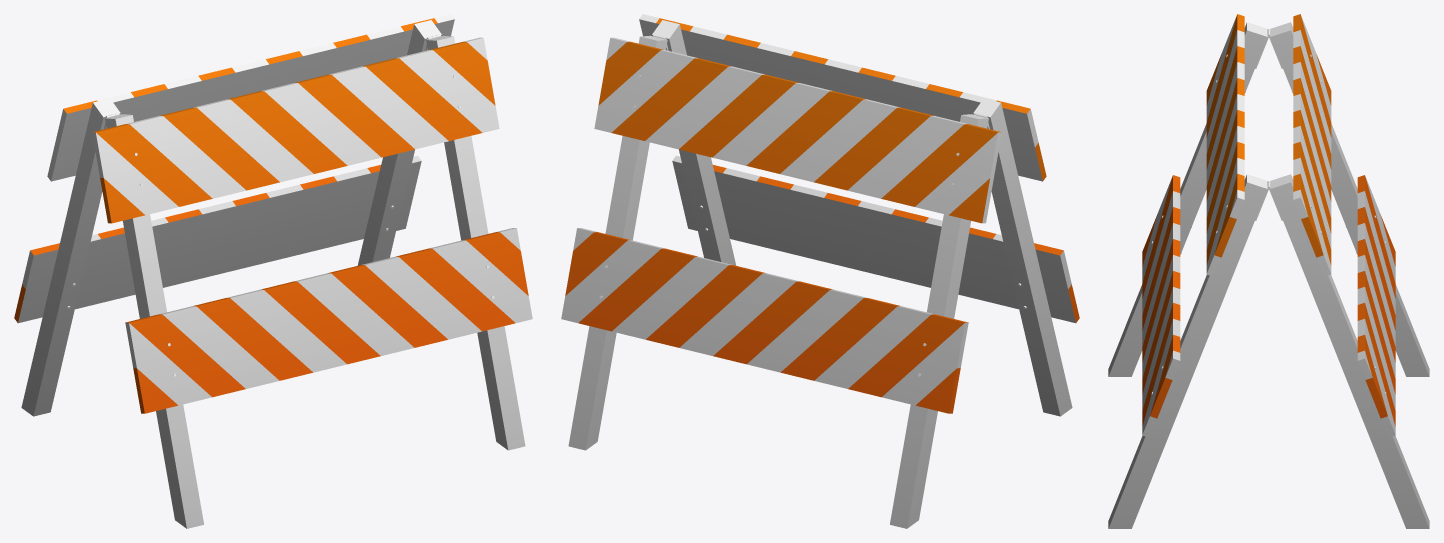
The model's file is type_ii_barricade_01_medium.glb.
The picture shows the model from 3 angles, left to right: view 1: azimuth 30°, elevation 25°; view 2: azimuth 150°, elevation 25°; view 3: azimuth 270°, elevation 25°; orthographic projection. The views are drawn at different scales.
Visible parts, largest first — view 1: type_ii_barricade_01_medium; view 2: type_ii_barricade_01_medium; view 3: type_ii_barricade_01_medium.
Part boxes in pixels (x1,y1,x2,y2): type_ii_barricade_01_medium: (14,14,532,528); type_ii_barricade_01_medium: (561,14,1079,528); type_ii_barricade_01_medium: (1108,14,1429,528).
Bounding box in the file's own units: 1.12 × 0.9894 × 0.8304.
Materials: 1 (1 with a texture image).
